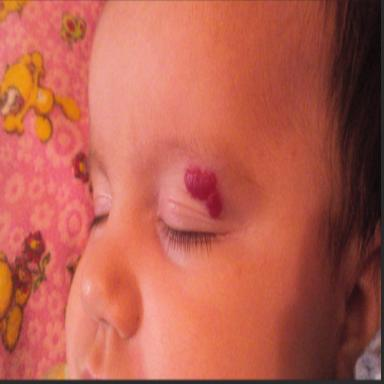Hemangiome: (185, 167, 222, 217)
